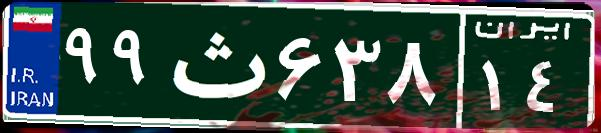1: (475, 38, 525, 113)
3: (330, 28, 385, 110)
4: (525, 38, 570, 115)
6: (273, 28, 330, 110)
8: (385, 28, 445, 110)
9: (57, 26, 110, 107), (110, 28, 158, 105)
ث: (158, 15, 273, 115)
